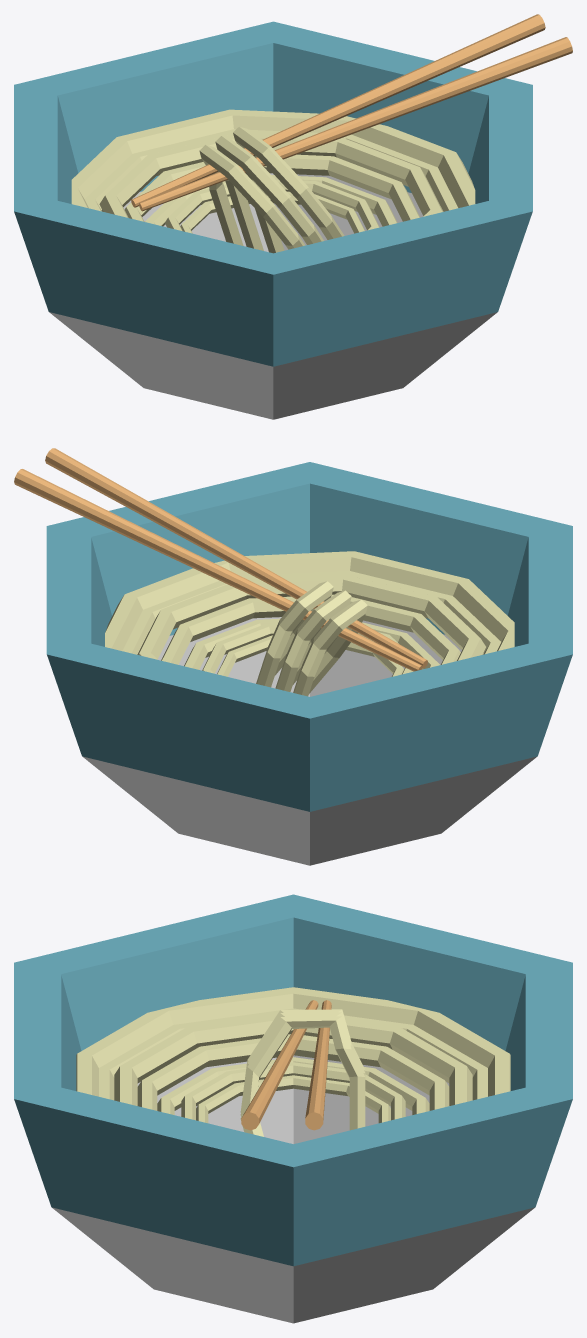
File: ramen.fbx
3 renders of one model, top to bottom at view 1: azimuth 30°, elevation 25°; view 2: azimuth 150°, elevation 25°; view 3: azimuth 270°, elevation 25°, orthographic. The views are drawn at different scales.
Visible parts, largest first — view 1: pSphere1, pTorus7, pTorus2, pCylinder2, pCylinder5, pTorus1, pCylinder3, pCylinder4, pCylinder1, pTorus3, pTorus5, pTorus6 (+1 smaller); view 2: pSphere1, pTorus7, pTorus2, pCylinder5, pCylinder2, pTorus1, pTorus3, pCylinder4, pCylinder1, pCylinder3, pTorus6, pTorus5 (+1 smaller); view 3: pSphere1, pTorus7, pTorus2, pTorus1, pCylinder1, pTorus3, pTorus5, pTorus6, pTorus4, pCylinder2, pCylinder5, pCylinder3 (+1 smaller).
Boxes of the visible parts, bbox=[...] form: pSphere1: bbox=[14, 21, 532, 419]; pTorus7: bbox=[71, 109, 475, 208]; pTorus2: bbox=[99, 133, 443, 217]; pCylinder2: bbox=[139, 37, 572, 211]; pCylinder5: bbox=[131, 14, 545, 207]; pTorus1: bbox=[124, 154, 419, 221]; pCylinder3: bbox=[215, 136, 323, 250]; pCylinder4: bbox=[199, 145, 305, 249]; pCylinder1: bbox=[233, 126, 344, 253]; pTorus3: bbox=[84, 129, 457, 211]; pTorus5: bbox=[165, 179, 379, 230]; pTorus6: bbox=[145, 175, 397, 226]; pSphere1: bbox=[46, 462, 572, 865]; pTorus7: bbox=[105, 551, 514, 651]; pTorus2: bbox=[137, 575, 485, 660]; pCylinder5: bbox=[14, 469, 422, 671]; pCylinder2: bbox=[45, 448, 427, 667]; pTorus1: bbox=[161, 594, 460, 664]; pTorus3: bbox=[122, 571, 501, 654]; pCylinder4: bbox=[293, 599, 367, 696]; pCylinder1: bbox=[256, 581, 333, 687]; pCylinder3: bbox=[275, 590, 351, 691]; pTorus6: bbox=[184, 618, 439, 669]; pTorus5: bbox=[202, 623, 413, 674]; pSphere1: bbox=[14, 894, 572, 1323]; pTorus7: bbox=[76, 987, 510, 1096]; pTorus2: bbox=[114, 1015, 472, 1105]; pTorus1: bbox=[137, 1034, 449, 1110]; pCylinder1: bbox=[240, 1016, 365, 1136]; pTorus3: bbox=[99, 1008, 487, 1100]; pTorus5: bbox=[181, 1062, 405, 1120]; pTorus6: bbox=[157, 1057, 429, 1114]; pTorus4: bbox=[196, 1075, 390, 1123]; pCylinder2: bbox=[241, 1000, 318, 1130]; pCylinder5: bbox=[305, 1000, 331, 1130]; pCylinder3: bbox=[240, 1012, 365, 1136].
Bounding box in the file's own units: 2.07 × 0.9929 × 1.73.
